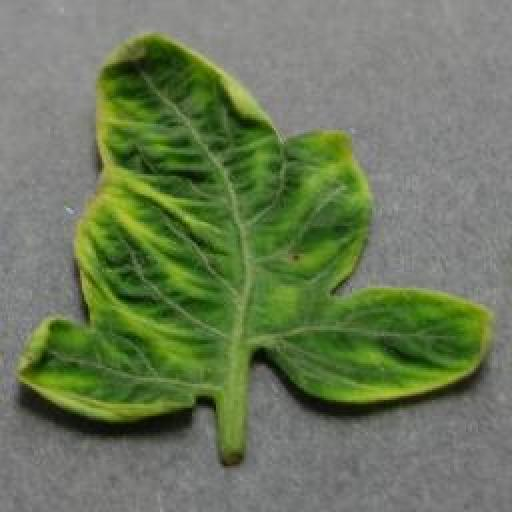Yellow Leaf Curl Virus: (17, 32, 496, 423)
